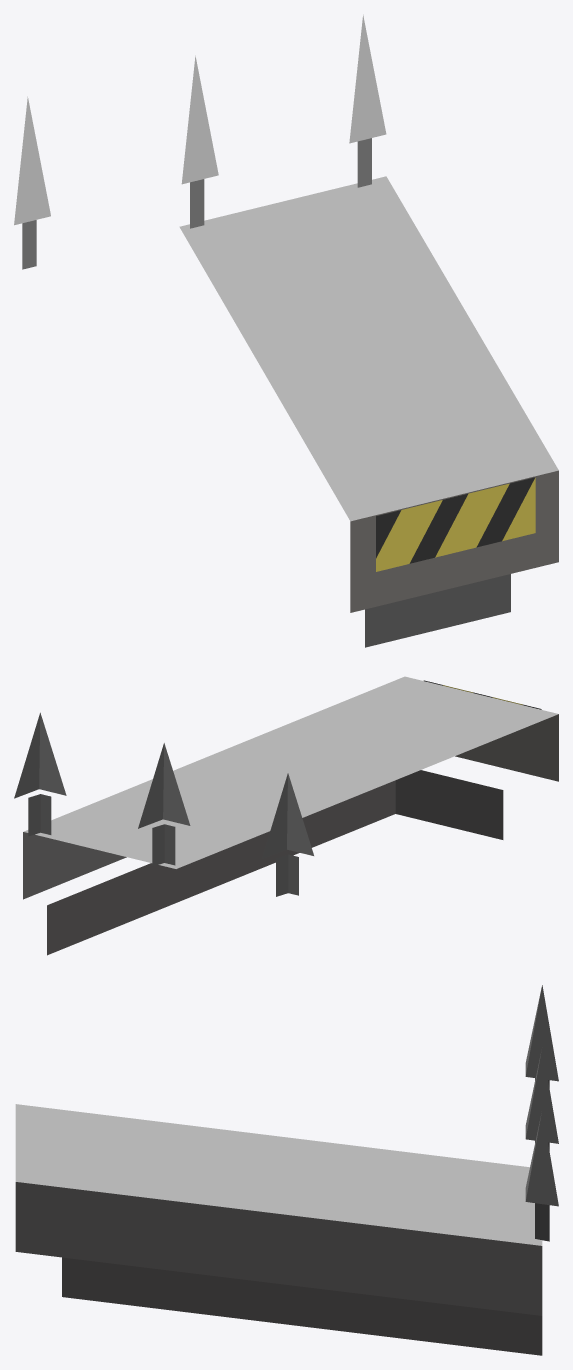
Rendered from Spike_Field_01.FBX.
3 views of the same model, one above another, from view 1: azimuth 30°, elevation 25°; view 2: azimuth 150°, elevation 25°; view 3: azimuth 270°, elevation 25° (orthographic). The views are drawn at different scales.
Parts seen in each view (by area): view 1: Spike_Field_01; view 2: Spike_Field_01; view 3: Spike_Field_01.
Boxes of the visible parts, <box> form: Spike_Field_01: <box>14,14,558,647</box>; Spike_Field_01: <box>14,676,558,955</box>; Spike_Field_01: <box>15,985,558,1355</box>.
Bounding box in the file's own units: 6.96 × 5.65 × 11.17.
